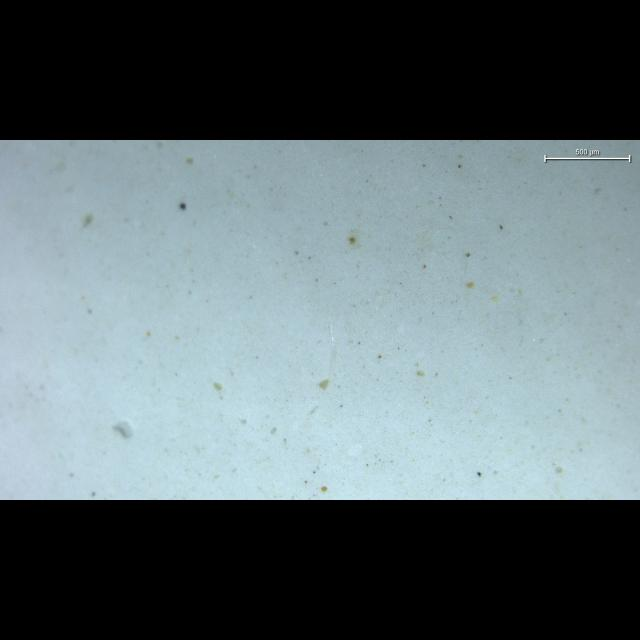Fibre: (328, 318, 336, 381)
Fragment: (113, 421, 133, 438)
